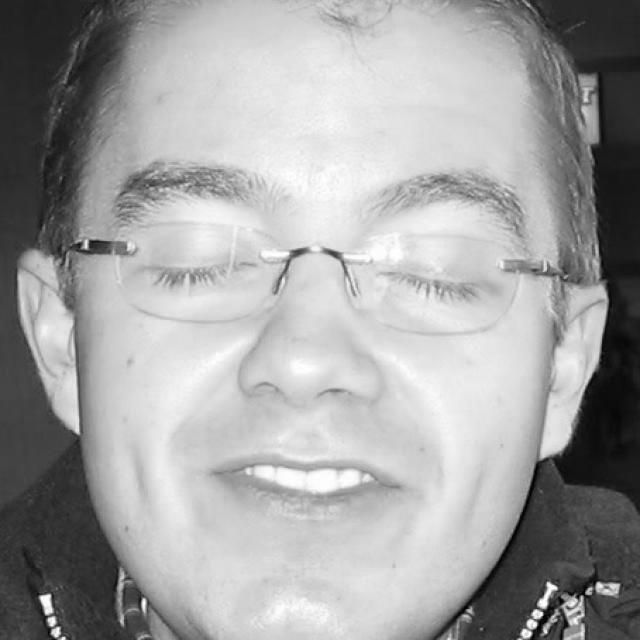real: (80, 0, 544, 612), (138, 198, 502, 334)
